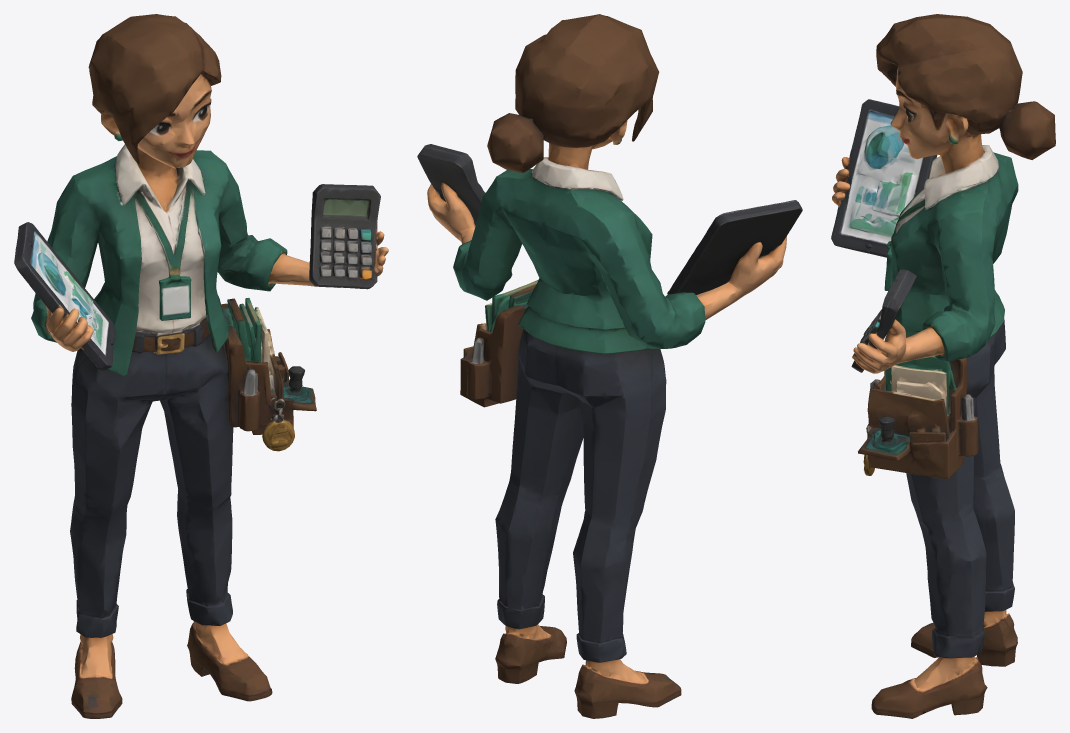
Rendered from office_finance_character_1k_real.glb.
3 renders of one model, left to right at view 1: azimuth 30°, elevation 25°; view 2: azimuth 150°, elevation 25°; view 3: azimuth 270°, elevation 25°, orthographic.
Visible parts, largest first — view 1: tripo_node_253f1964-d221-40a3-ba90-dd5770fcab8a; view 2: tripo_node_253f1964-d221-40a3-ba90-dd5770fcab8a; view 3: tripo_node_253f1964-d221-40a3-ba90-dd5770fcab8a.
Boxes of the visible parts, left/top/right/bottom form: tripo_node_253f1964-d221-40a3-ba90-dd5770fcab8a: left=14, top=14, right=388, bottom=718; tripo_node_253f1964-d221-40a3-ba90-dd5770fcab8a: left=417, top=14, right=802, bottom=718; tripo_node_253f1964-d221-40a3-ba90-dd5770fcab8a: left=831, top=14, right=1055, bottom=718.
Size of the model in its own units: 0.5859 by 1 by 0.3089.
Materials: 1 (1 with a texture image).
